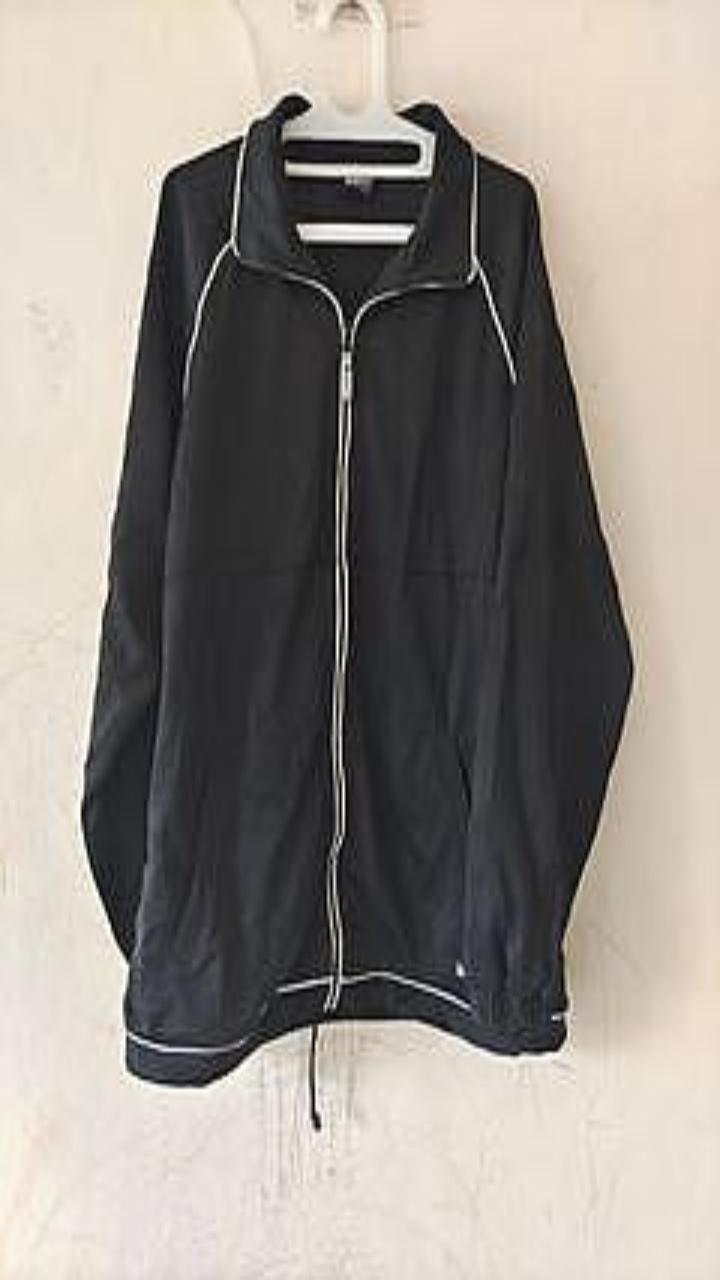Sports_Jacket: (81, 91, 632, 1084)
